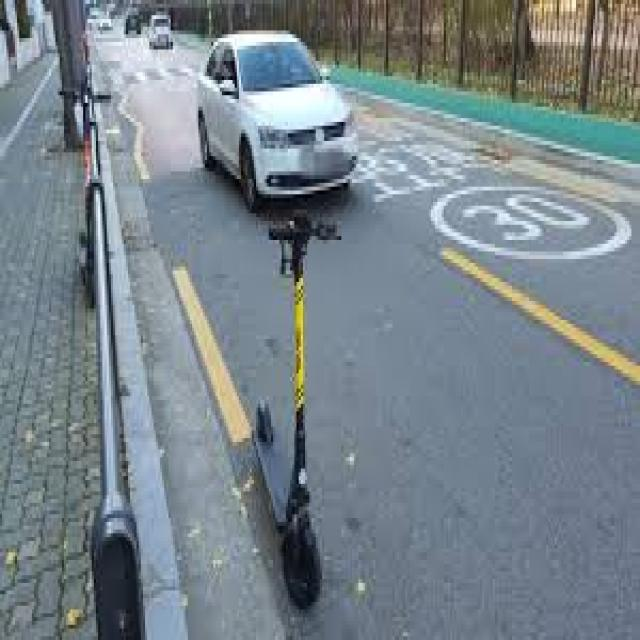kick-board: (256, 213, 322, 610)
lane: (442, 244, 640, 389), (175, 263, 256, 480)
road: (92, 34, 640, 640)
sidewalk: (0, 50, 128, 640)
verge: (119, 183, 314, 640)
